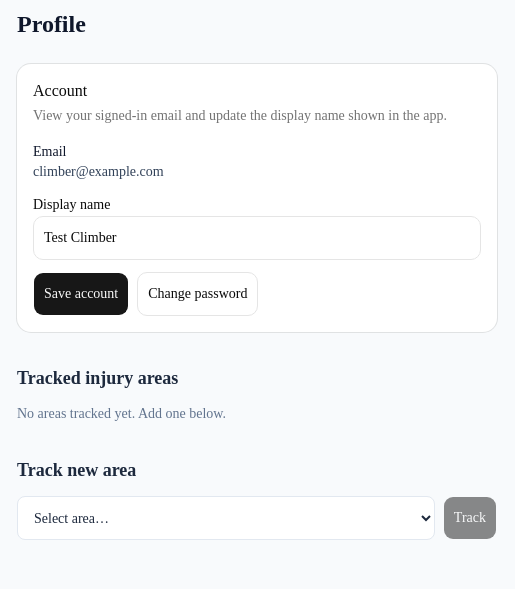
Scenario: ProfilePage › shows an error when display name save fails
Replace the text in the field labelled "Display name" with "Updated Name" at (257,238), box [33, 216, 481, 260]
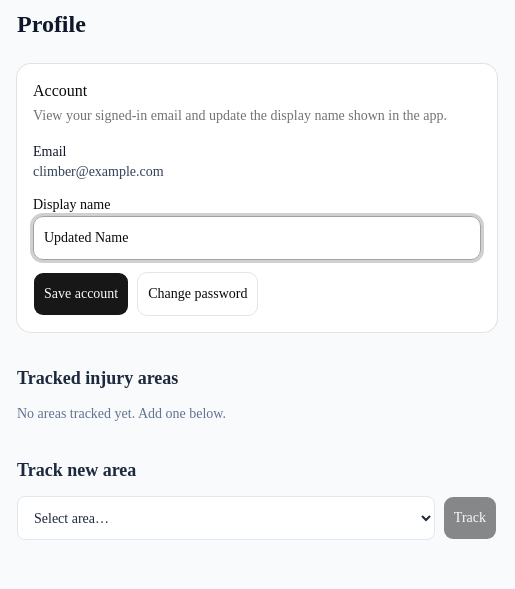
Click the button "Save account" at (81,294), box [33, 272, 129, 316]
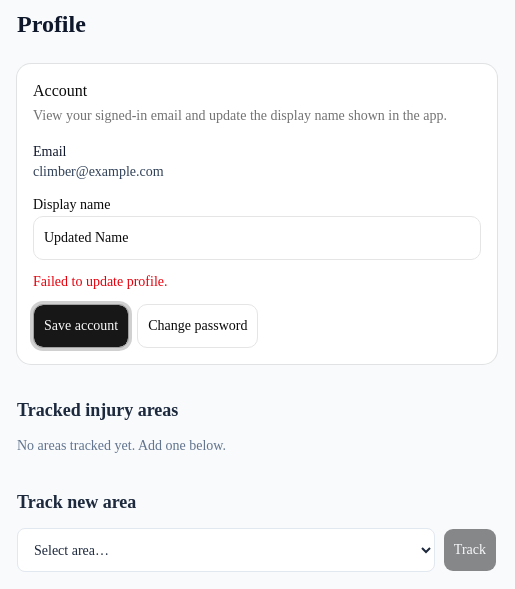
Result: the message reads "Failed to update profile." at [33, 274, 168, 289]
